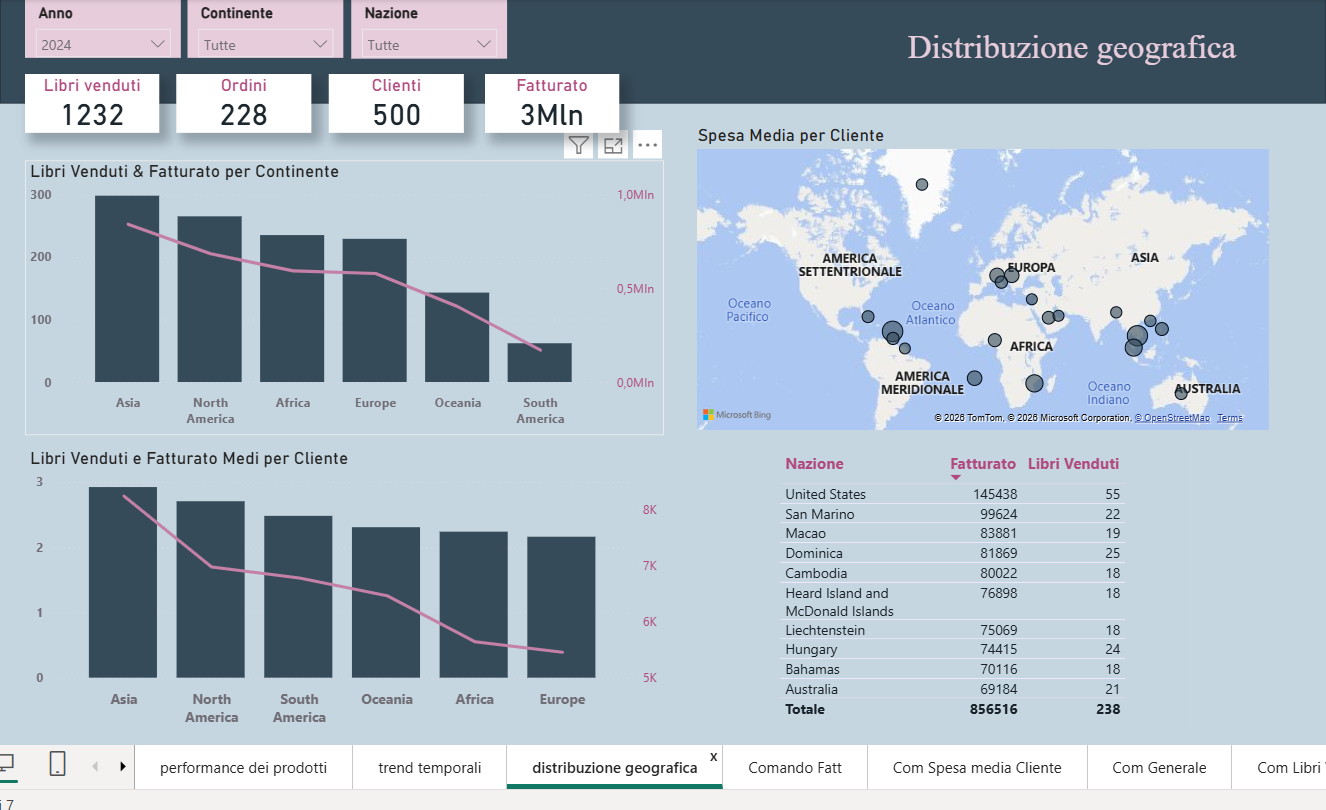

The page's visual inventory and layout, read from the dashboard file:
{"tool":"powerbi","page":{"name":"distribuzione geografica","canvas":[1280,720],"ordinal":2},"visuals":[{"type":"shape","box":[0,0,1279.7,100.9],"z":0},{"type":"lineClusteredColumnComboChart","title":"Libri Venduti & Fatturato per Continente","fields":{"Category":["Customers.Continent"],"Y":["Books.Total Books Sold"],"Y2":["Books.Total Revenue"]},"box":[23.8,155.4,616.6,265.2],"z":1000},{"type":"lineClusteredColumnComboChart","title":"Libri Venduti e Fatturato Medi per Cliente","fields":{"Category":["Customers.Continent"],"Y":["Books.Avg Books per Customer"],"Y2":["Books.Avg Spending per Customer"]},"box":[23.8,433.5,616.6,277.1],"z":2000},{"type":"tableEx","fields":{"Values":["Customers.Country","Books.Total Revenue","Books.Total Books Sold"]},"box":[747.2,433.5,402.8,270.2],"z":3000},{"type":"map","title":"Spesa Media per Cliente","fields":{"Category":["Customers.Country"],"Size":["Books.Avg Spending per Customer"]},"box":[668,120.7,561.2,299.9],"z":4000},{"type":"slicer","fields":{"Values":["Customers.Country"]},"box":[339.5,0,150.4,57.4],"z":5000},{"type":"slicer","fields":{"Values":["Calendar.Year"]},"box":[23.8,0,150.4,57],"z":6000},{"type":"slicer","fields":{"Values":["Customers.Continent"]},"box":[181.1,1,150.4,57.4],"z":7000},{"type":"card","title":"Fatturato","fields":{"Values":["Books.Total Revenue"]},"box":[468.1,72.2,129.6,56.4],"z":8000},{"type":"card","title":"Ordini","fields":{"Values":["Books.Total Orders"]},"box":[170.2,72.2,130.6,56.4],"z":9000},{"type":"card","title":"Libri venduti","fields":{"Values":["Books.Total Books Sold"]},"box":[23.8,72.2,129.6,56.4],"z":10000},{"type":"card","title":"Clienti","fields":{"Values":["Customers.Distinct Customers"]},"box":[317.7,72.2,130.6,56.4],"z":11000},{"type":"textbox","box":[870.9,22.8,348.4,55.4],"z":12000}]}

Visuals, with their boxes on the page's 1280x720 design canvas (x1, y1, x2, y2). These are canvas units, not pixel positions in the 1326x810 screenshot, which may show the page scaled, cropped or inside an application window:
shape: bbox=[0, 0, 1280, 101]
"Libri Venduti & Fatturato per Continente" lineClusteredColumnComboChart: bbox=[24, 155, 640, 421]
"Libri Venduti e Fatturato Medi per Cliente" lineClusteredColumnComboChart: bbox=[24, 434, 640, 711]
tableEx - Customers.Country x Books.Total Revenue: bbox=[747, 434, 1150, 704]
"Spesa Media per Cliente" map: bbox=[668, 121, 1229, 421]
slicer - Customers.Country: bbox=[340, 0, 490, 57]
slicer - Calendar.Year: bbox=[24, 0, 174, 57]
slicer - Customers.Continent: bbox=[181, 1, 332, 58]
"Fatturato" card: bbox=[468, 72, 598, 129]
"Ordini" card: bbox=[170, 72, 301, 129]
"Libri venduti" card: bbox=[24, 72, 153, 129]
"Clienti" card: bbox=[318, 72, 448, 129]
textbox: bbox=[871, 23, 1219, 78]
